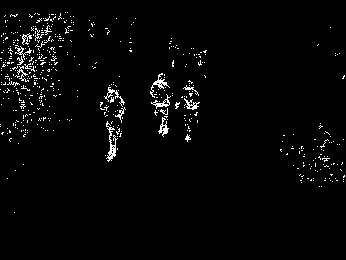person: (97, 81, 131, 165), (180, 77, 204, 143), (150, 72, 171, 138)
